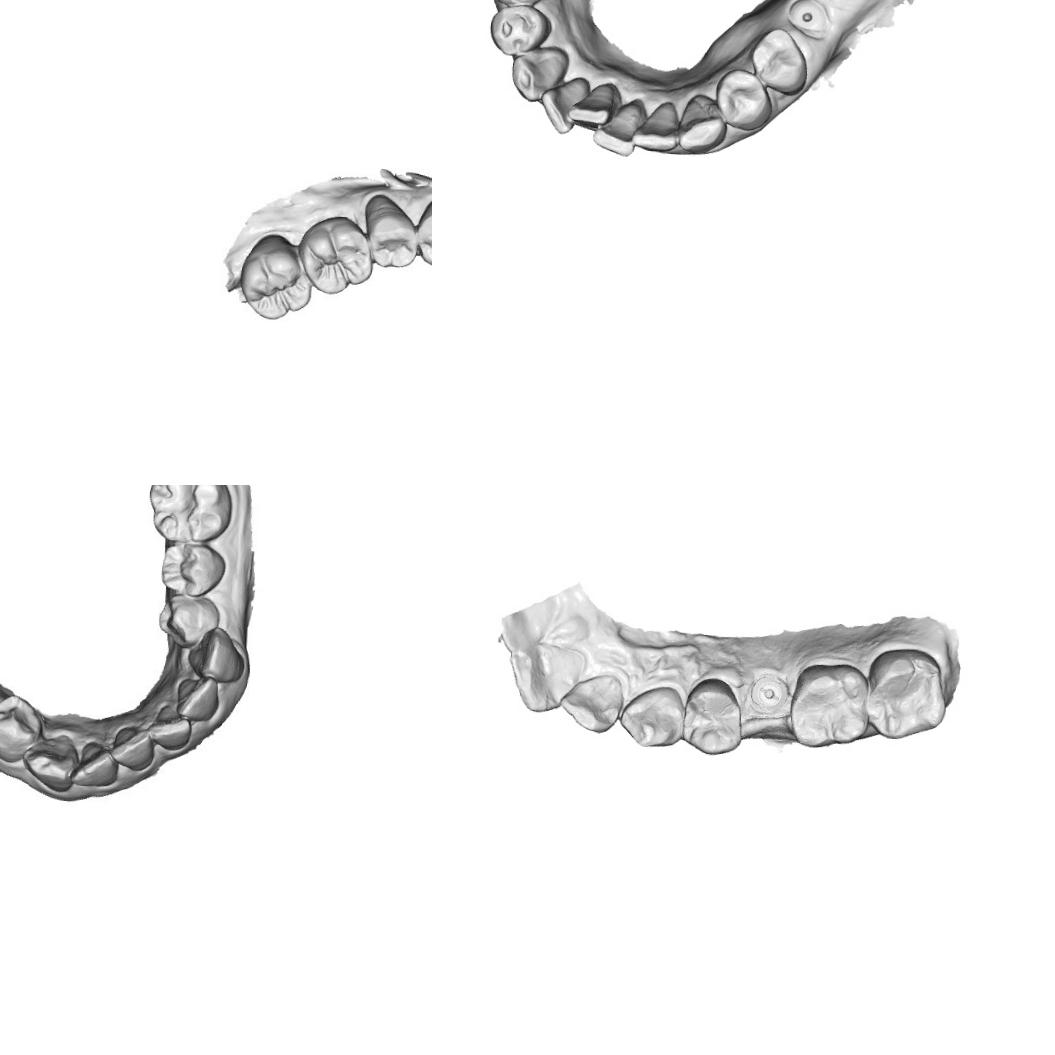canine: (618, 684, 690, 750), (508, 42, 571, 102), (189, 624, 249, 686), (676, 92, 728, 155), (23, 732, 79, 790)
implant: (784, 0, 830, 35)
implant_minus: (745, 674, 795, 716)
incisor: (508, 636, 581, 714), (561, 674, 625, 732), (538, 74, 590, 134), (629, 97, 682, 153), (591, 101, 640, 157), (176, 675, 226, 728), (110, 722, 162, 772), (567, 80, 617, 127), (150, 710, 196, 754), (74, 742, 116, 790)
molar: (865, 647, 948, 744), (787, 660, 870, 750), (302, 220, 370, 292), (243, 238, 307, 313), (148, 485, 228, 538)
premolar: (683, 674, 741, 755), (712, 66, 776, 134), (748, 27, 811, 94), (156, 540, 224, 599), (485, 2, 552, 59), (156, 592, 220, 640), (368, 198, 414, 264), (0, 698, 40, 759), (418, 201, 432, 259)
